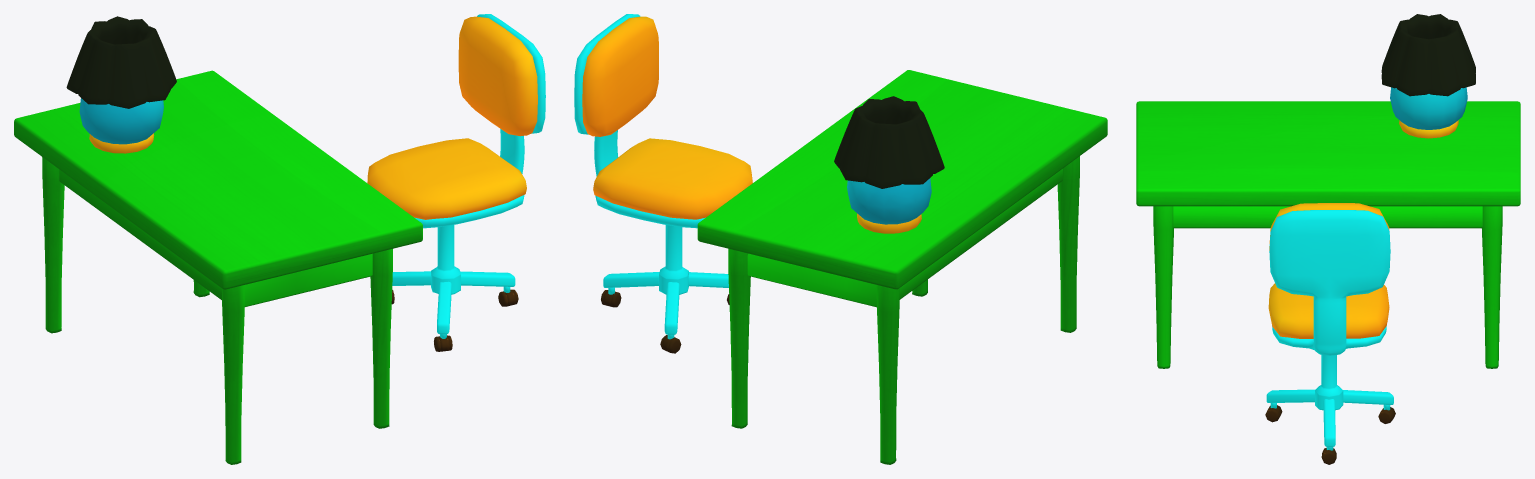
Rendered from desk.glb.
3 views of the same model, side by side, from view 1: azimuth 30°, elevation 25°; view 2: azimuth 150°, elevation 25°; view 3: azimuth 270°, elevation 25° (orthographic). The views are drawn at different scales.
Visible parts, largest first — view 1: room3_desk, room3_chair, room3_stand_small; view 2: room3_desk, room3_chair, room3_stand_small; view 3: room3_desk, room3_chair, room3_stand_small.
Part boxes in pixels (box(x1,y1,x2,y2)): room3_desk: box(14, 70, 422, 464); room3_chair: box(367, 14, 545, 351); room3_stand_small: box(66, 16, 176, 153); room3_desk: box(697, 70, 1107, 464); room3_chair: box(574, 14, 752, 353); room3_stand_small: box(834, 96, 944, 233); room3_desk: box(1136, 101, 1520, 368); room3_chair: box(1265, 203, 1395, 464); room3_stand_small: box(1381, 14, 1475, 138).
Size of the model in its own units: 4.25 by 3.19 by 3.85.
Materials: 3 (3 with a texture image).
